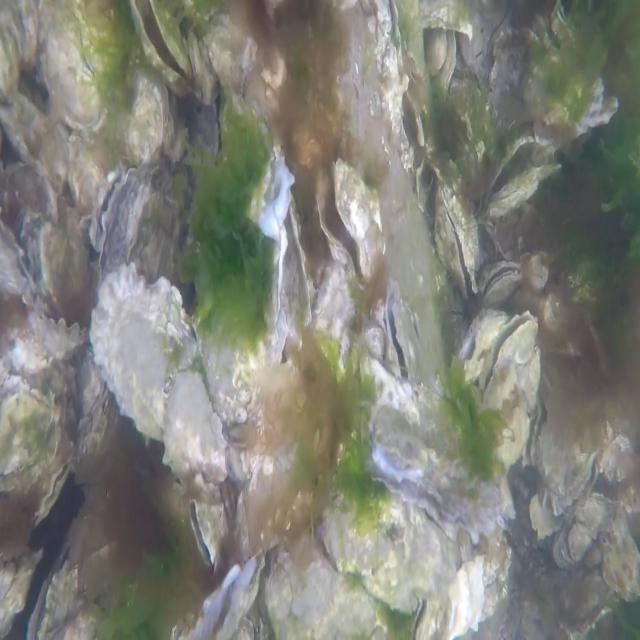Oyster-Closed: (41, 0, 128, 136), (486, 161, 561, 220), (33, 456, 74, 531), (36, 306, 90, 355)
Oyster-Indeterminate: (91, 262, 227, 474), (320, 489, 452, 614), (0, 377, 66, 496), (1, 91, 74, 186), (39, 217, 95, 309), (0, 0, 39, 104), (124, 80, 167, 167)
Oyster-Open: (367, 392, 504, 546), (208, 13, 294, 244), (313, 159, 386, 292), (27, 532, 107, 640), (474, 310, 540, 411), (128, 0, 194, 89), (432, 186, 481, 297), (276, 198, 312, 337), (452, 307, 510, 384), (91, 162, 137, 256), (378, 280, 413, 385), (0, 218, 40, 300), (188, 498, 226, 569), (480, 262, 522, 304)
